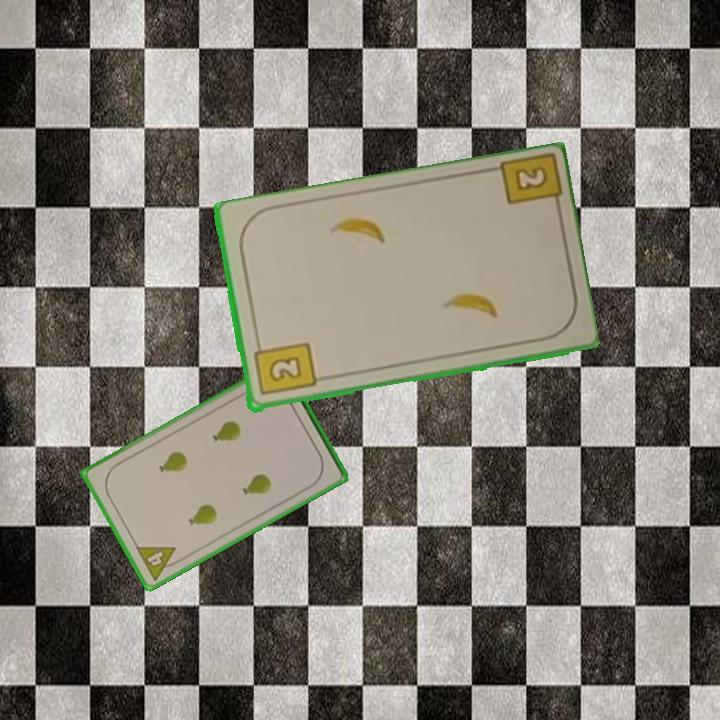2b: (494, 153, 564, 217), (250, 338, 318, 399)
4p: (132, 543, 185, 584)
